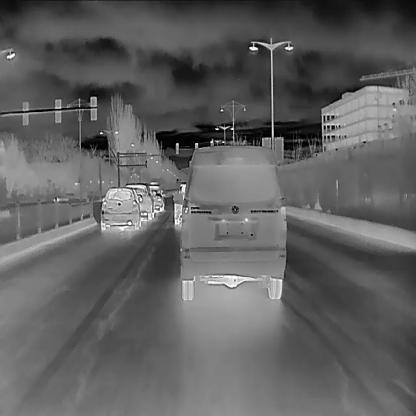car: (172, 143, 287, 301), (100, 185, 143, 230), (124, 181, 155, 219), (171, 180, 187, 227), (147, 181, 165, 212), (150, 189, 163, 212)
